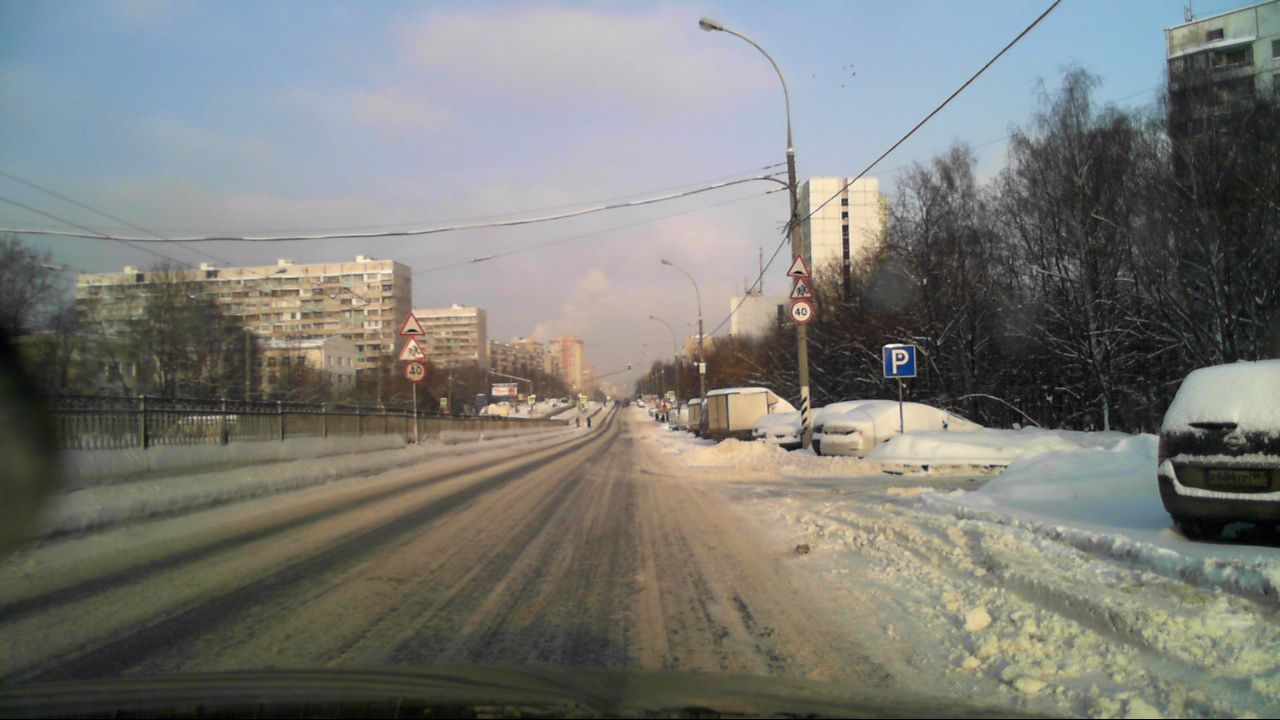speed_warning_40: (403, 360, 425, 383)
